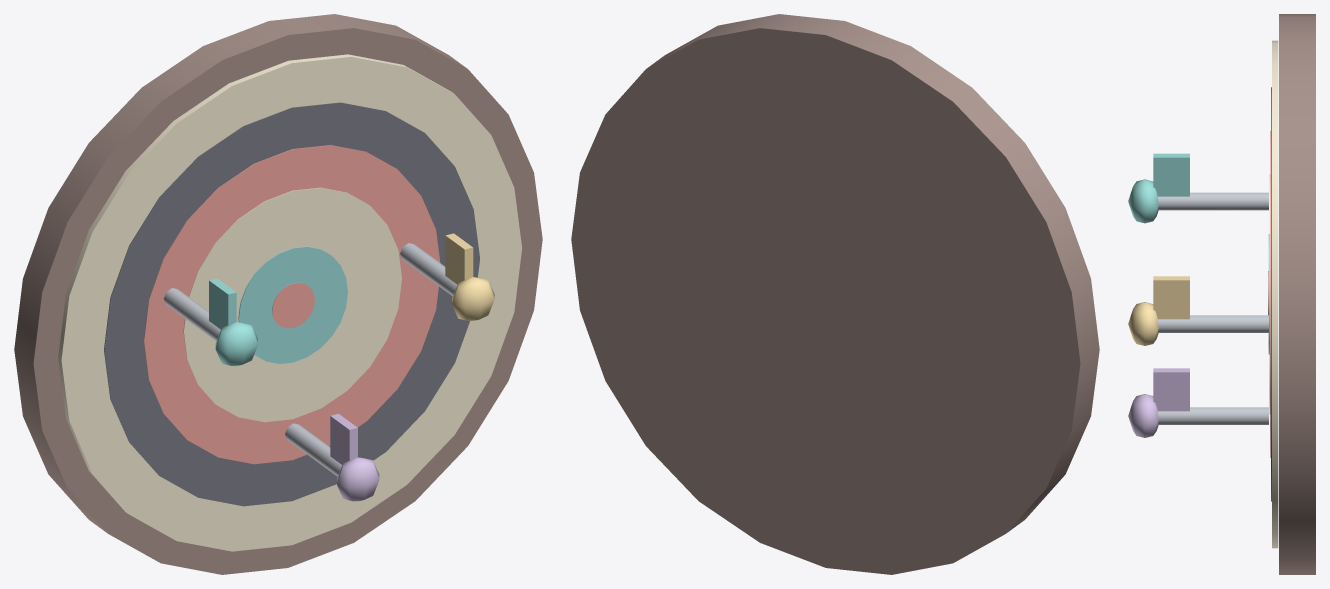
File: 01_diana_perchero.glb
3 views of the same model, side by side, from view 1: azimuth 30°, elevation 25°; view 2: azimuth 150°, elevation 25°; view 3: azimuth 270°, elevation 25° (orthographic). The views are drawn at different scales.
Parts seen in each view (by area): view 1: body (×8); view 2: body; view 3: body (×8).
Boxes of the visible parts, x1,y1,x2,y2 form: body (×8): [14, 14, 542, 574]; body: [571, 14, 1099, 574]; body (×8): [1128, 14, 1315, 574].
Size of the model in its own units: 0.84 by 0.84 by 0.28.
